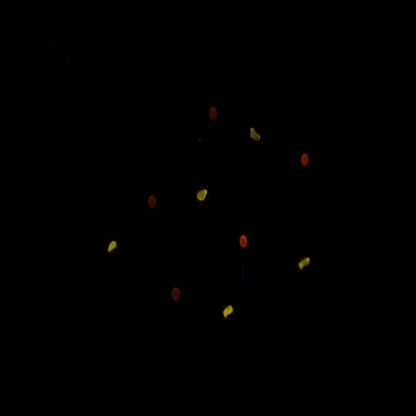PP: (296, 242, 321, 286), (103, 223, 126, 270), (244, 116, 270, 157), (193, 175, 217, 217), (218, 294, 241, 336)
PS: (141, 183, 162, 222), (164, 278, 188, 309), (234, 224, 254, 260), (295, 145, 317, 177), (205, 96, 224, 133)
